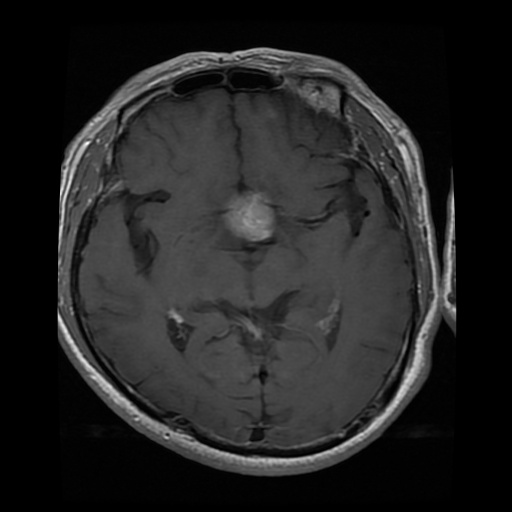pituitary: (221, 187, 277, 242)
